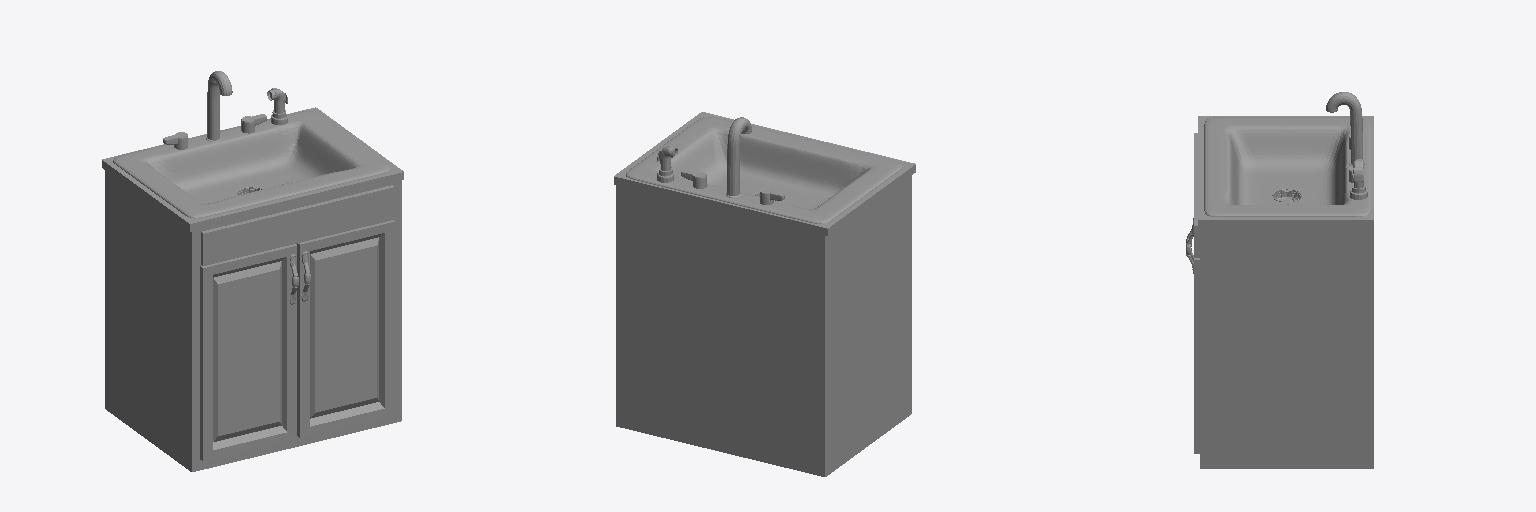
File: kitchenSinkWithMarble.obj
The picture shows the model from 3 angles: view 1: azimuth 30°, elevation 25°; view 2: azimuth 150°, elevation 25°; view 3: azimuth 270°, elevation 25°; orthographic projection.
Parts seen in each view (by area): view 1: PolyMesh_1_1.002, PolyMesh_1_6.001, PolyMesh_1_5, PolyMesh_2.001, Cube_3.001, PolyMesh_1_7.002, PolyMesh_1.003; view 2: PolyMesh_1_1.002, PolyMesh_2.001, PolyMesh_1_7.002, PolyMesh_1.003; view 3: PolyMesh_1_1.002, PolyMesh_2.001, PolyMesh_1_7.002, PolyMesh_1_6.001, PolyMesh_1.003, Cube_3.001.
Boxes of the visible parts, x1=… form: PolyMesh_1_1.002: x1=105, y1=170, x2=401, y2=471; PolyMesh_1_6.001: x1=297, y1=220, x2=394, y2=437; PolyMesh_1_5: x1=200, y1=244, x2=296, y2=461; PolyMesh_2.001: x1=113, y1=111, x2=390, y2=218; Cube_3.001: x1=201, y1=185, x2=394, y2=265; PolyMesh_1_7.002: x1=102, y1=107, x2=403, y2=231; PolyMesh_1.003: x1=207, y1=71, x2=232, y2=140; PolyMesh_1_1.002: x1=616, y1=175, x2=911, y2=476; PolyMesh_2.001: x1=626, y1=117, x2=902, y2=223; PolyMesh_1_7.002: x1=614, y1=112, x2=915, y2=235; PolyMesh_1.003: x1=727, y1=117, x2=751, y2=195; PolyMesh_1_1.002: x1=1200, y1=228, x2=1373, y2=468; PolyMesh_2.001: x1=1204, y1=117, x2=1370, y2=216; PolyMesh_1_7.002: x1=1198, y1=116, x2=1373, y2=227; PolyMesh_1_6.001: x1=1194, y1=258, x2=1199, y2=453; PolyMesh_1.003: x1=1326, y1=92, x2=1362, y2=164; Cube_3.001: x1=1194, y1=133, x2=1199, y2=257.
Size of the model in its own units: 3.67 by 5.29 by 2.8.